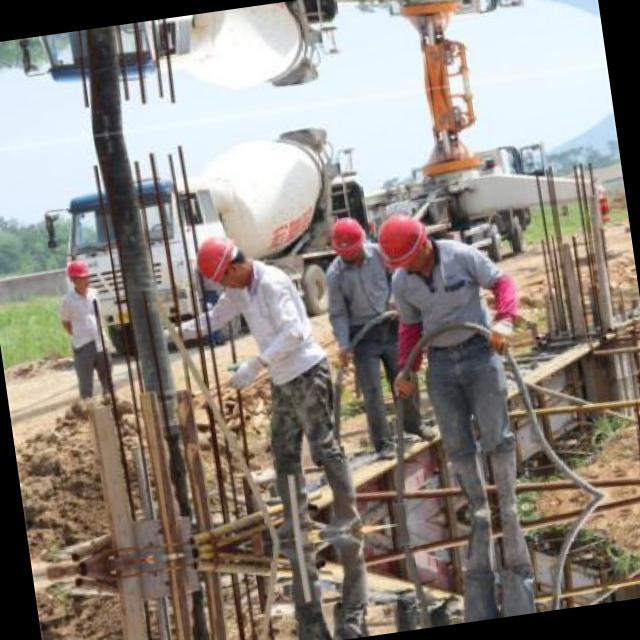helmet: (188, 224, 256, 298), (370, 205, 438, 278), (328, 212, 370, 264), (61, 256, 95, 300)
